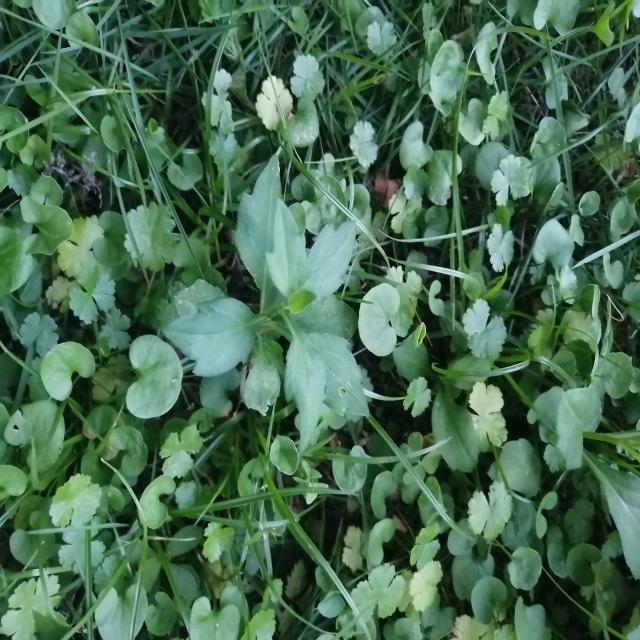Indian aster: (176, 172, 366, 444)
